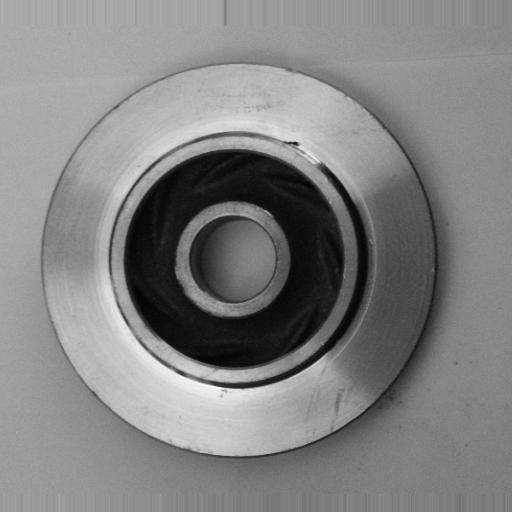crack: (280, 127, 343, 176)
unpolished_casting: (39, 60, 439, 461)
